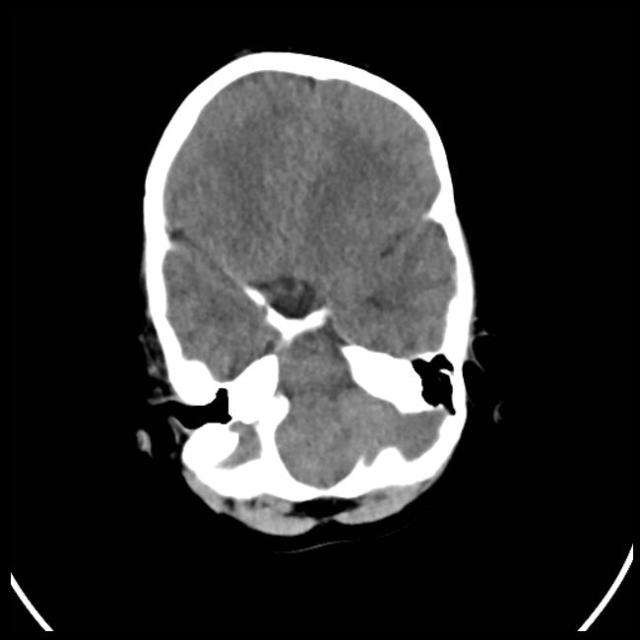lesion: (132, 48, 483, 543)
